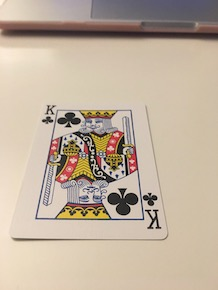KingOfClubs: (8, 95, 179, 245)
